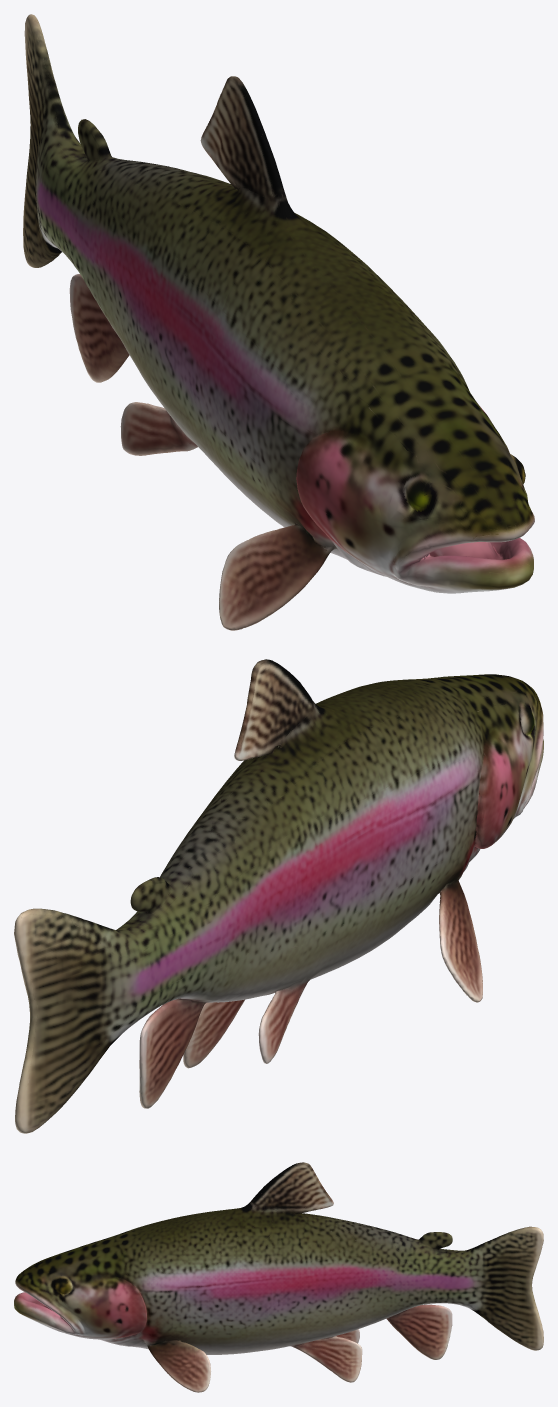
File: 10_rainbow_trout.glb
3 views of the same model, one above another, from view 1: azimuth 30°, elevation 25°; view 2: azimuth 150°, elevation 25°; view 3: azimuth 270°, elevation 25° (orthographic). The views are drawn at different scales.
Parts seen in each view (by area): view 1: world; view 2: world; view 3: world.
Part boxes in pixels (<box>): world: <box>23,14,534,630</box>; world: <box>14,659,543,1133</box>; world: <box>14,1162,543,1392</box>.
Size of the model in its own units: 0.2624 by 0.4541 by 1.
1 material, 1 textured.
